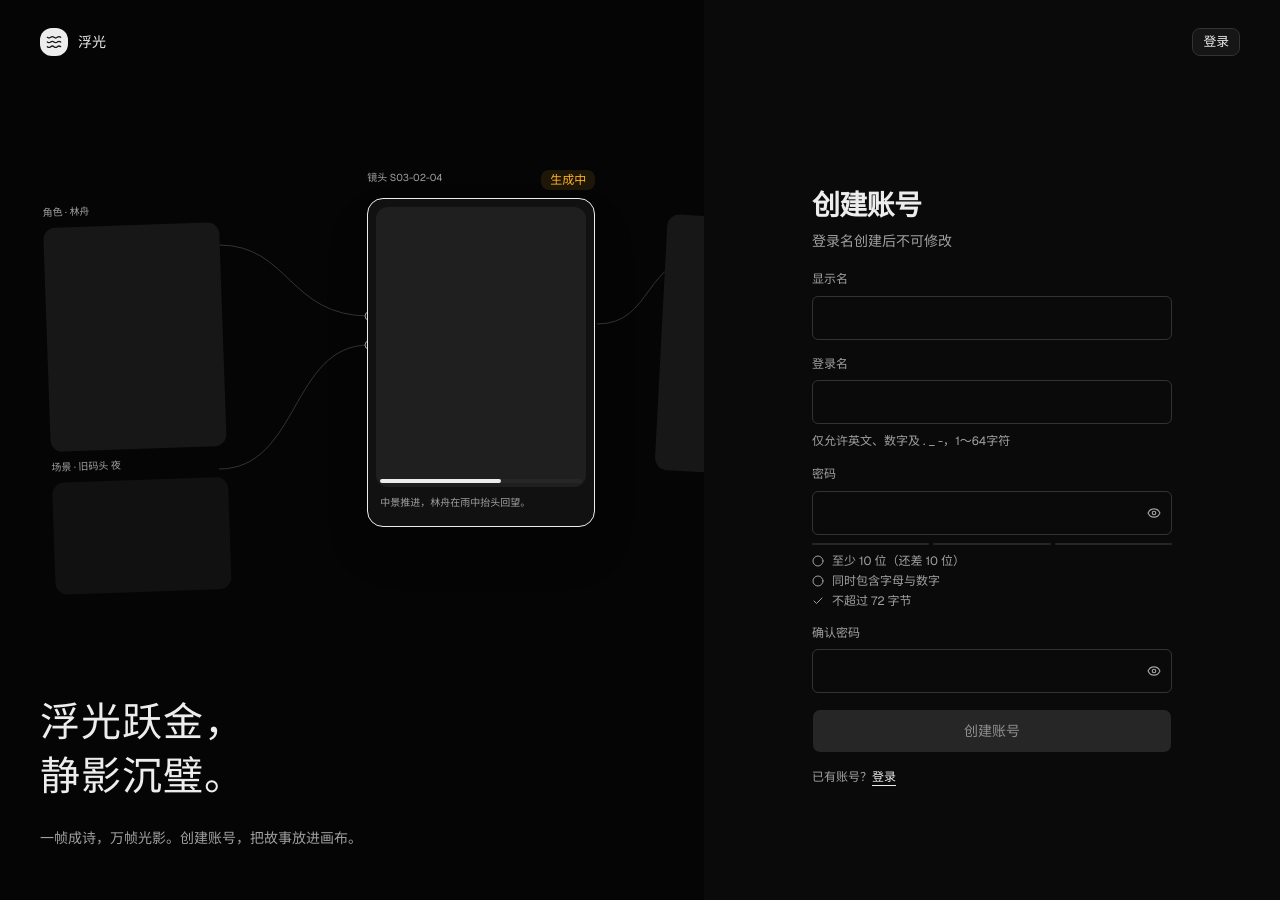
Test: 无身份回执不伪造成功
Type "Alice" into the field labelled "显示名" at (992, 318), box x1=812 y1=296 x2=1172 y2=340
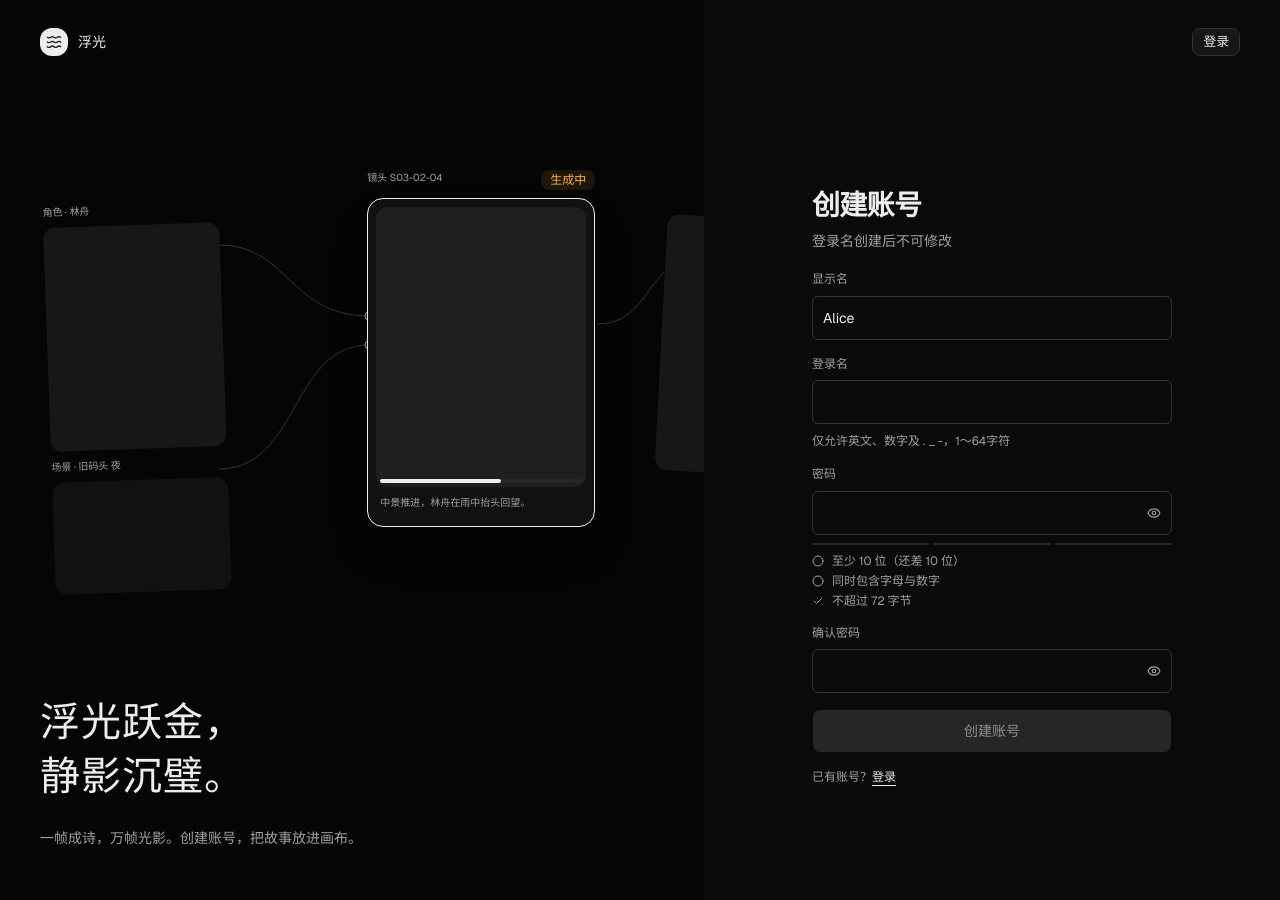
Type "alice" into the field labelled "登录名" at (992, 402), box x1=812 y1=380 x2=1172 y2=424
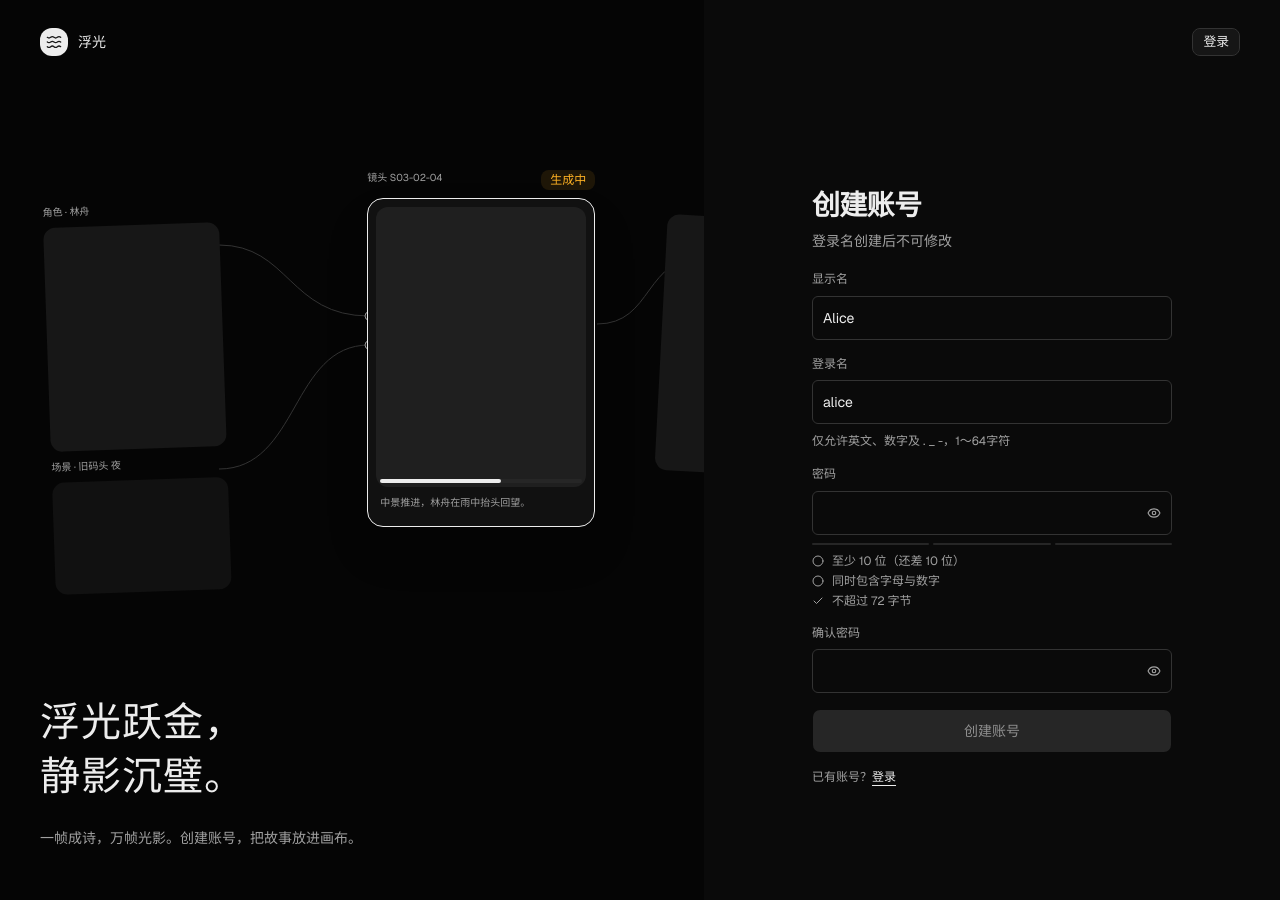
Type "Password12345" into the password field labelled "密码" at (976, 512), box x1=813 y1=496 x2=1140 y2=528
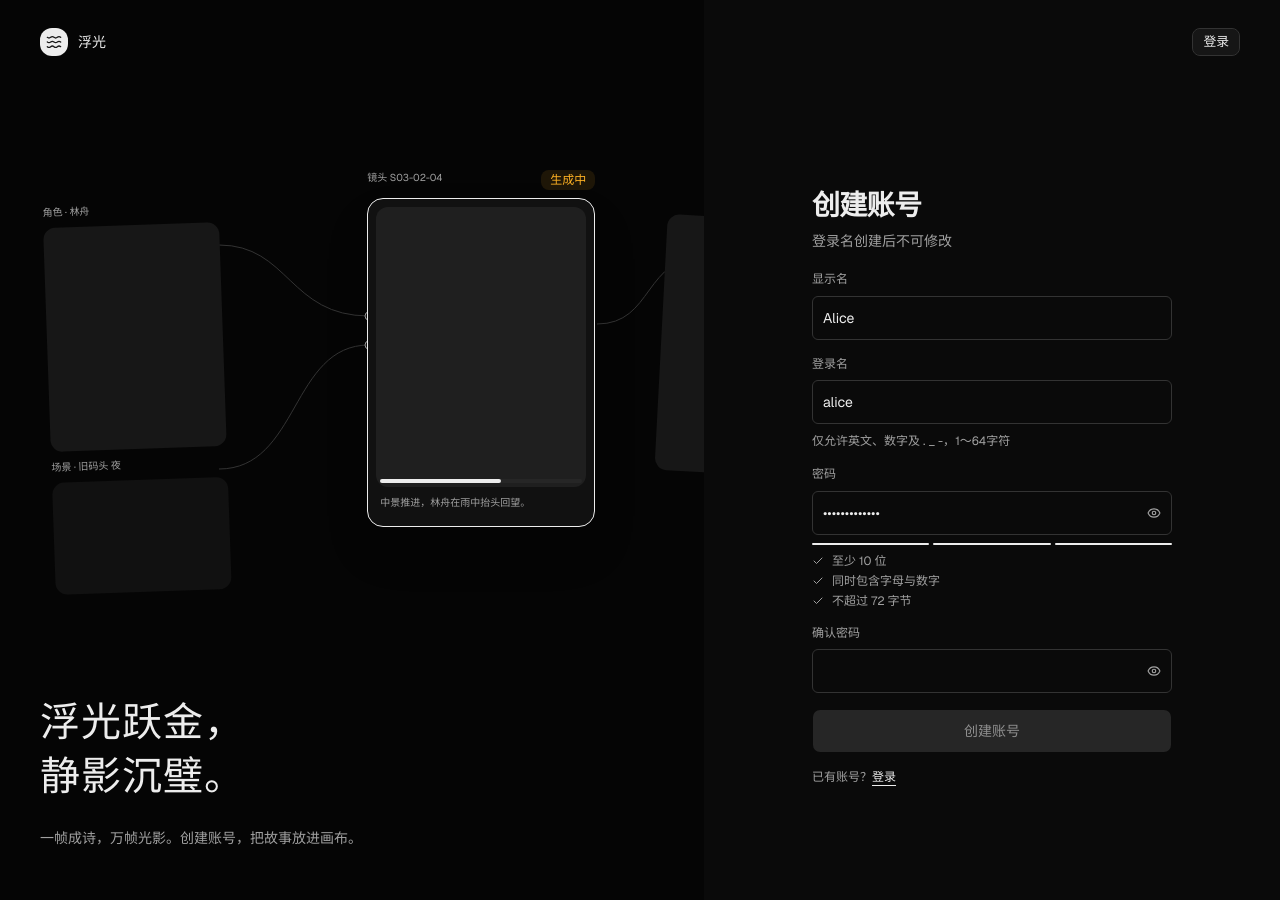
Type "Password12345" into the password field labelled "确认密码" at (976, 671), box x1=813 y1=655 x2=1140 y2=687
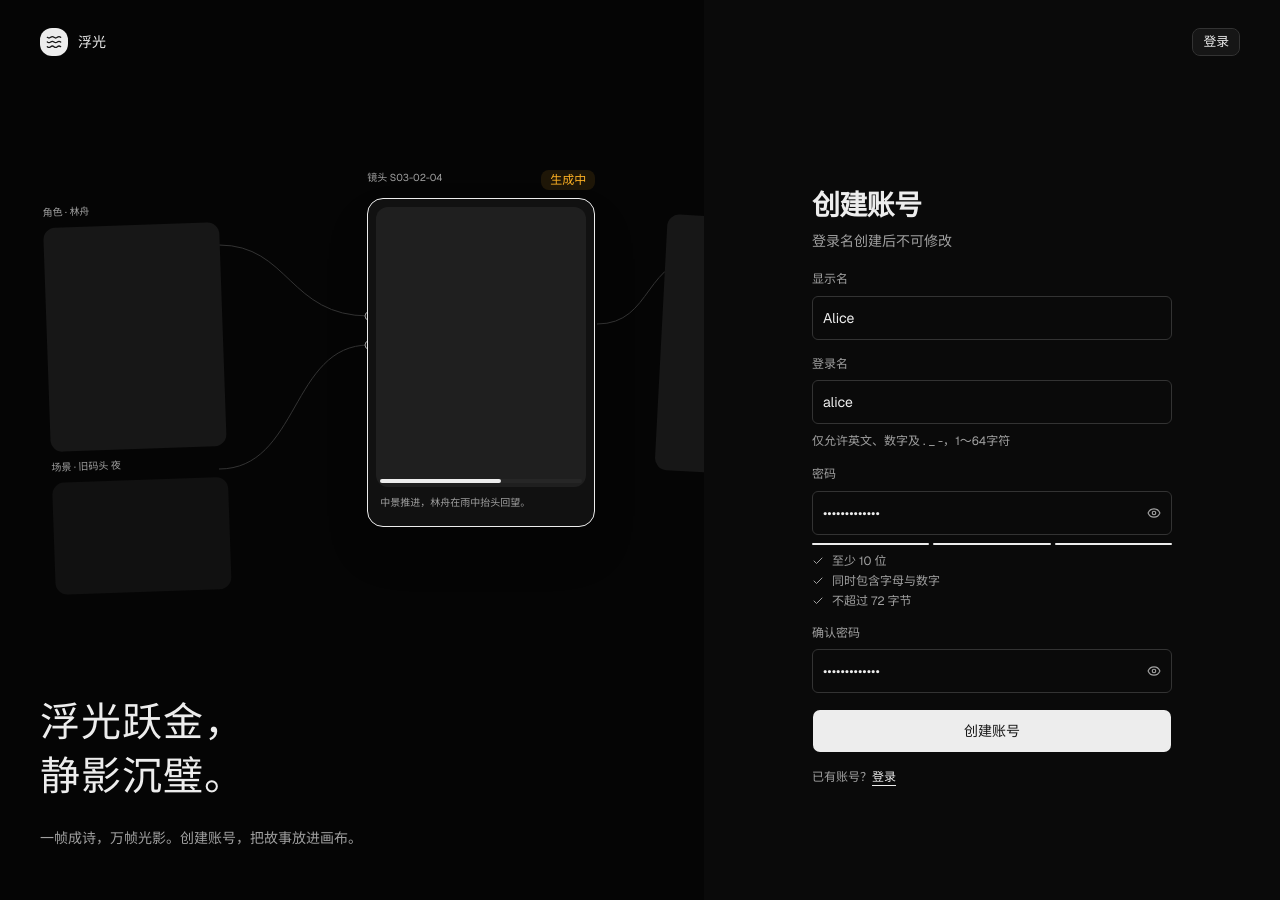
Click the button "创建账号" at (992, 731), box x1=812 y1=709 x2=1172 y2=753
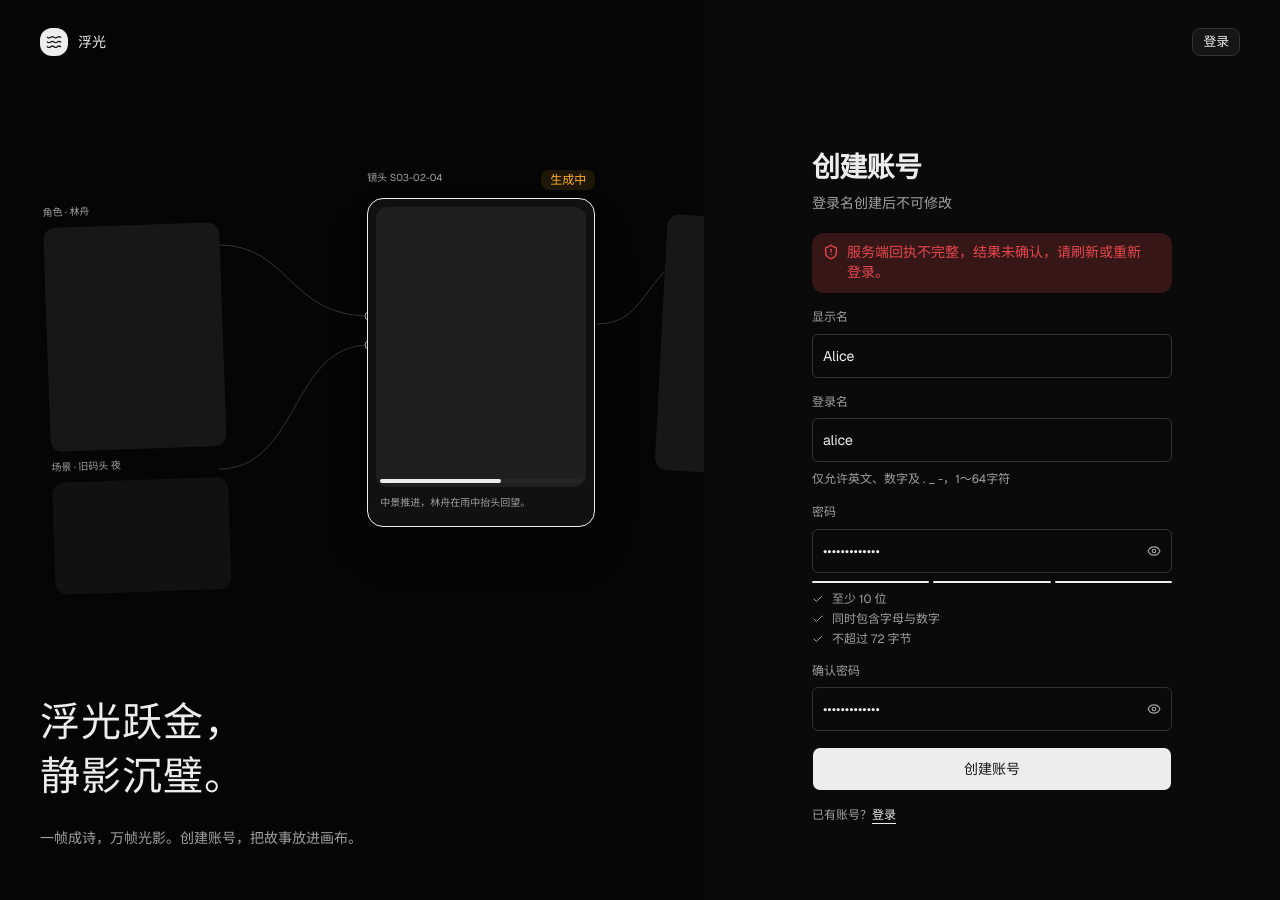
Check: the message shows "回执", box x1=812 y1=233 x2=1172 y2=293
